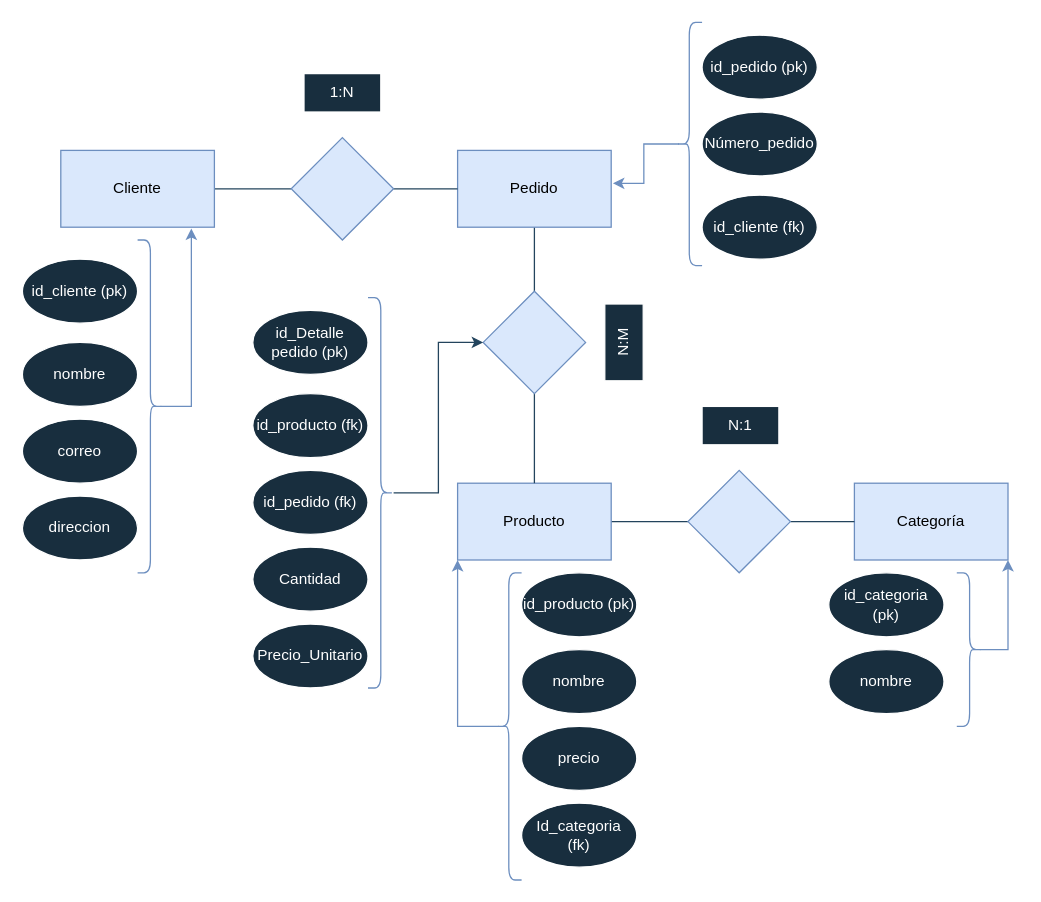
The diagram is 1041 pixels wide and 902 high, and some of its shapes have lost their labels. Here are the shapes that lost their labels. From the top down, the centre of each, then its label:
[342,188]: hace
[534,342]: contiene
[738,521]: pertenece
